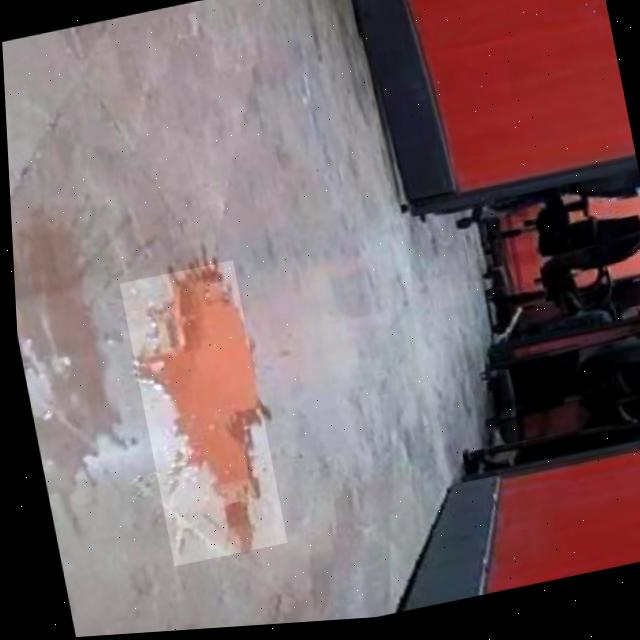spillage: (130, 270, 254, 554)
